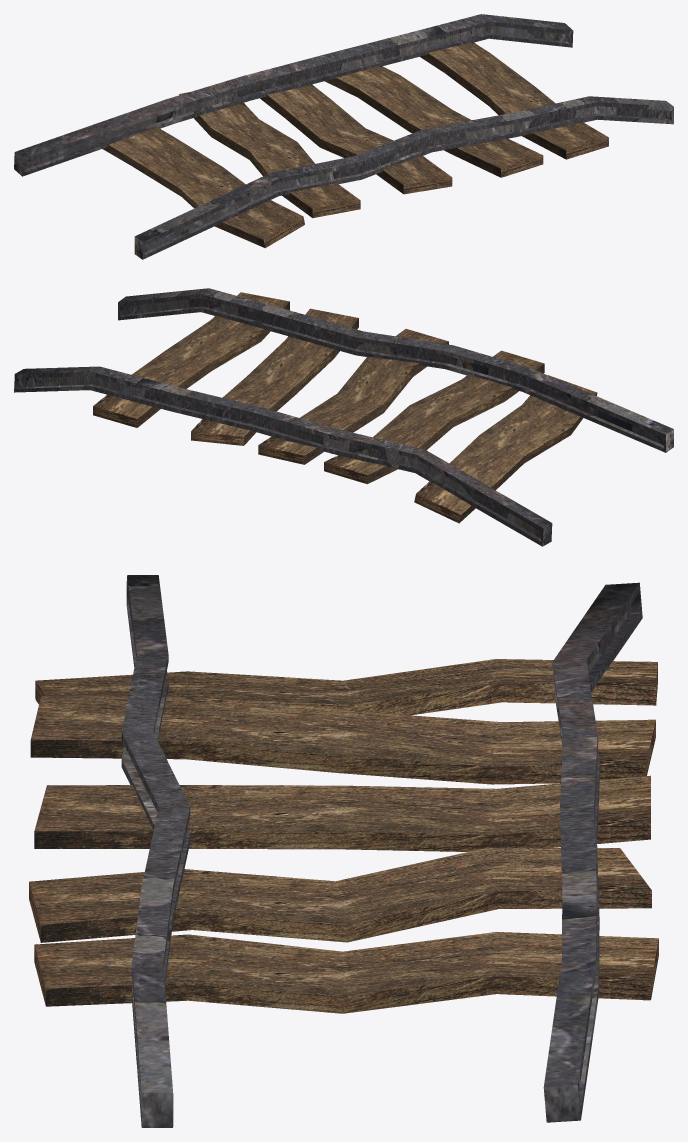
Rendered from rails_short.fbx.
The picture shows the model from 3 angles, top to bottom: view 1: azimuth 30°, elevation 25°; view 2: azimuth 150°, elevation 25°; view 3: azimuth 270°, elevation 25°; orthographic projection. The views are drawn at different scales.
Parts seen in each view (by area): view 1: planks, rails; view 2: planks, rails; view 3: planks, rails.
Part boxes in pixels (x1=…): planks: x1=102, y1=42, x2=608, y2=248; rails: x1=14, y1=14, x2=673, y2=259; planks: x1=93, y1=292, x2=597, y2=523; rails: x1=14, y1=288, x2=673, y2=546; planks: x1=29, y1=659, x2=658, y2=1013; rails: x1=121, y1=575, x2=642, y2=1127.
Size of the model in its own units: 6317 by 605 by 3218.
2 materials, 2 textured.
